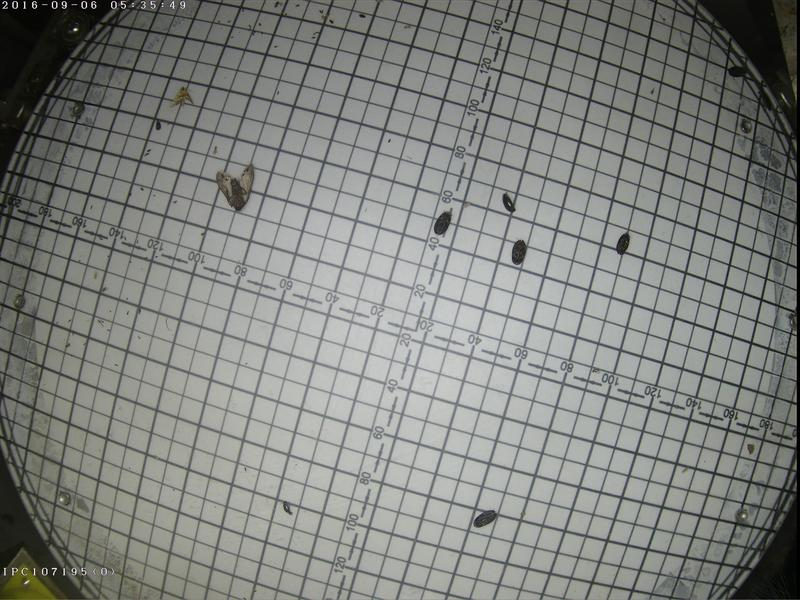Rice planthopper: (90, 268, 99, 280), (461, 199, 471, 207)
